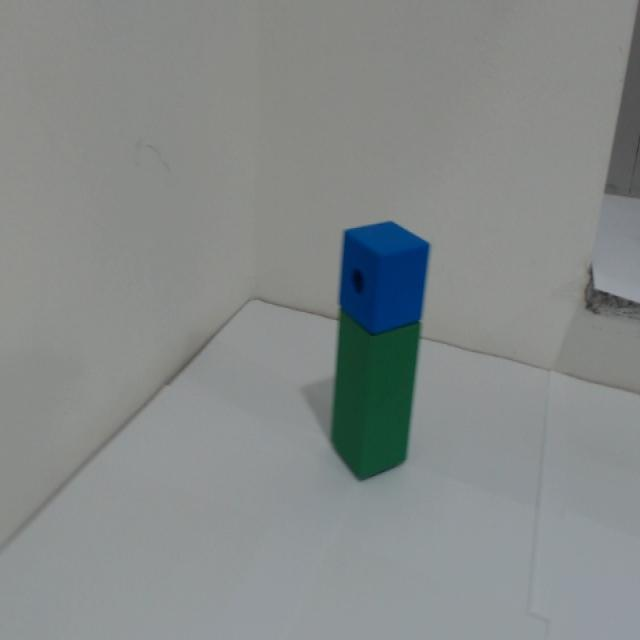cube: (335, 177, 446, 334)
